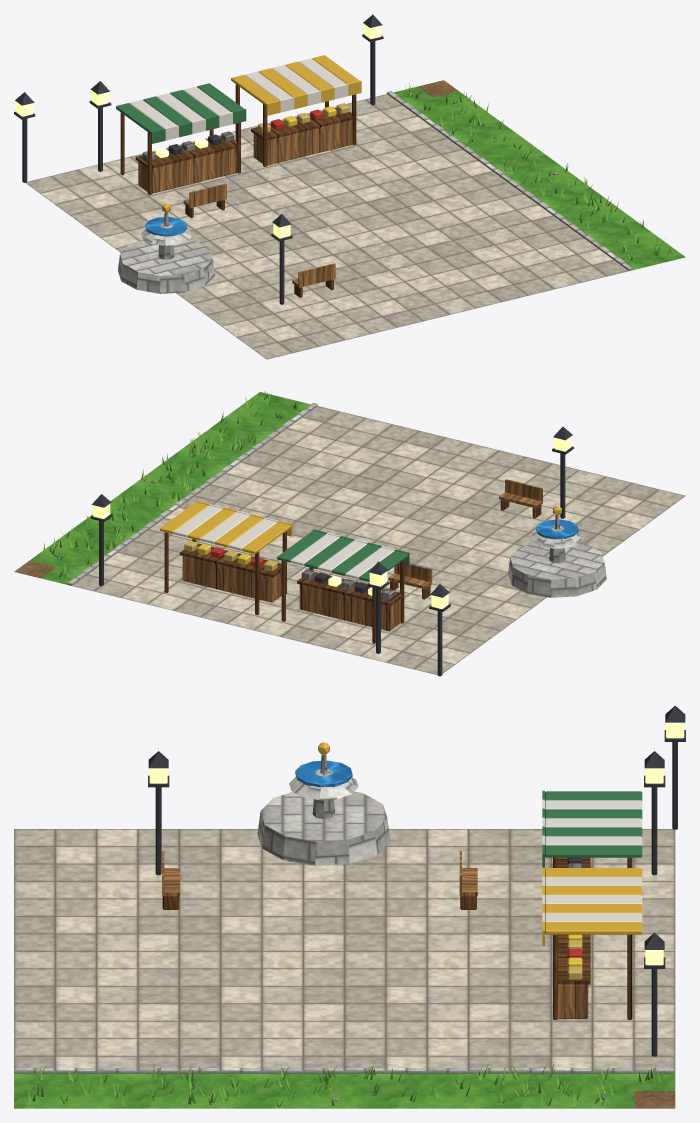
Rendered from chunk_2_8.glb.
3 views of the same model, one above another, from view 1: azimuth 30°, elevation 25°; view 2: azimuth 150°, elevation 25°; view 3: azimuth 270°, elevation 25° (orthographic). The views are drawn at different scales.
Parts seen in each view (by area): view 1: chunk_2_8; view 2: chunk_2_8; view 3: chunk_2_8.
Part boxes in pixels (box(x1,y1,x2,y2)): chunk_2_8: box(14, 14, 685, 359); chunk_2_8: box(14, 390, 685, 676); chunk_2_8: box(14, 705, 685, 1108).
Bounding box in the file's own units: 17.13 × 3.35 × 16.26.
19 materials, 10 textured.
